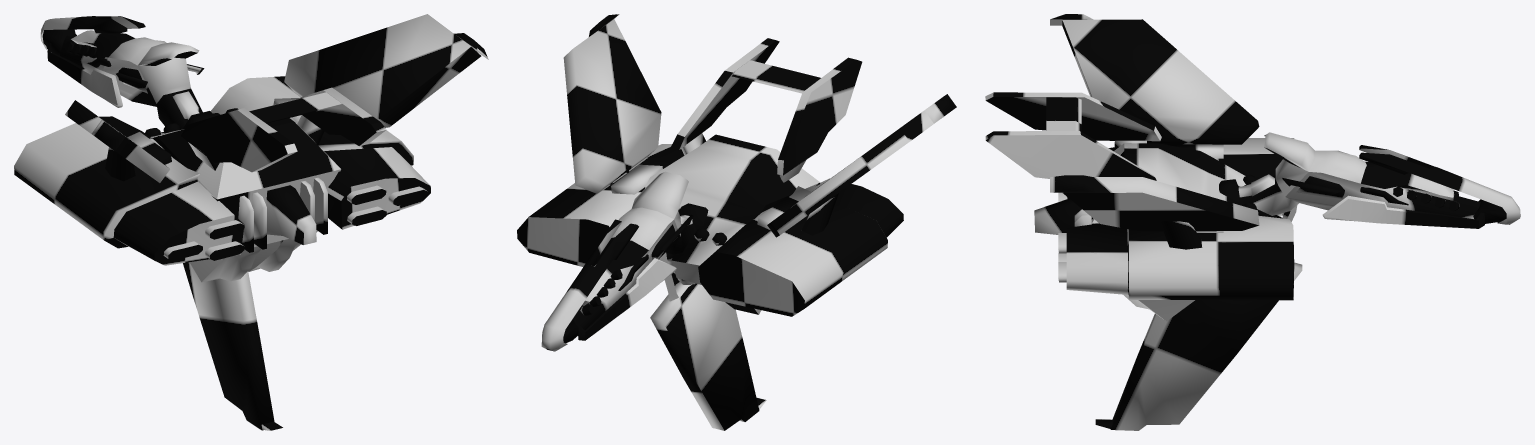
File: goliath_diminisher.obj
3 views of the same model, side by side, from view 1: azimuth 30°, elevation 25°; view 2: azimuth 150°, elevation 25°; view 3: azimuth 270°, elevation 25° (orthographic). The views are drawn at different scales.
Visible parts, largest first — view 1: goliath_diminisher; view 2: goliath_diminisher; view 3: goliath_diminisher.
Boxes of the visible parts, box(x1,y1,x2,y2) form: goliath_diminisher: box(14, 14, 488, 430); goliath_diminisher: box(517, 14, 956, 430); goliath_diminisher: box(985, 14, 1520, 430).
Bounding box in the file's own units: 118 × 107 × 156.
1 material, 1 textured.
